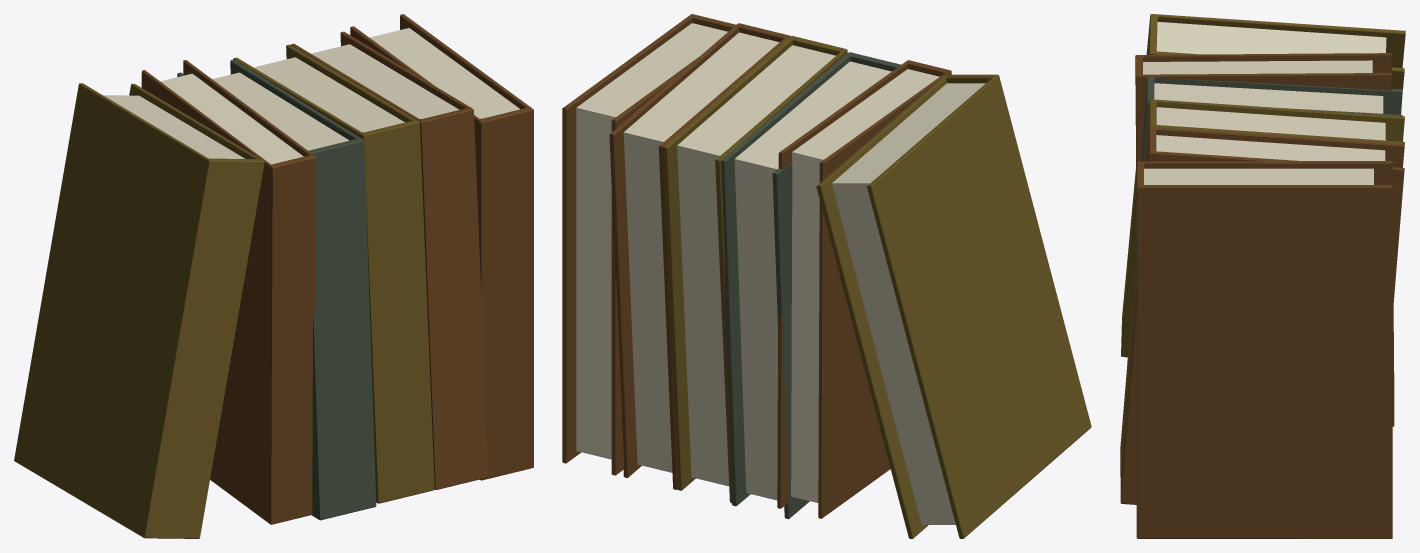
Rendered from Books_Side01 1.fbx.
The picture shows the model from 3 angles, left to right: view 1: azimuth 30°, elevation 25°; view 2: azimuth 150°, elevation 25°; view 3: azimuth 270°, elevation 25°; orthographic projection.
Parts seen in each view (by area): view 1: Book_cover (×6), book_paper (×6); view 2: Book_cover (×6), book_paper (×6); view 3: Book_cover (×6), book_paper (×6).
Boxes of the visible parts, x1,y1,x2,y2 form: Book_cover (×6): [14, 14, 533, 538]; book_paper (×6): [103, 28, 519, 164]; Book_cover (×6): [562, 14, 1091, 538]; book_paper (×6): [576, 23, 985, 524]; Book_cover (×6): [1120, 14, 1405, 538]; book_paper (×6): [1143, 22, 1386, 184].
Bounding box in the file's own units: 628 × 585 × 397.
